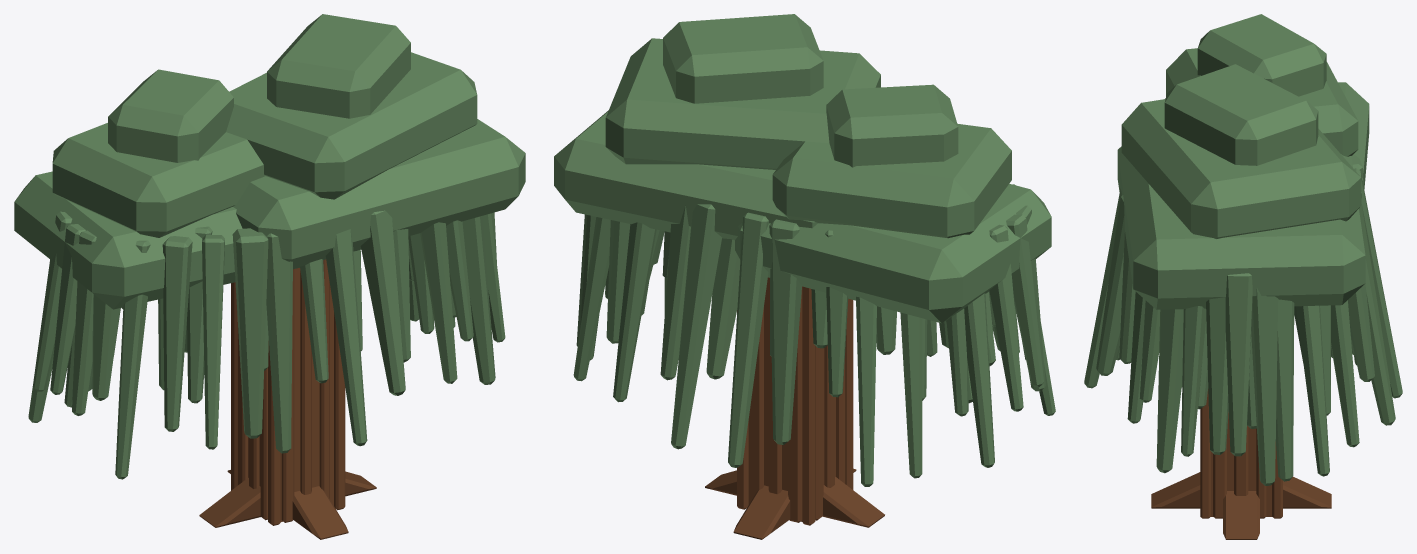
Rendered from Willow2.fbx.
3 views of the same model, side by side, from view 1: azimuth 30°, elevation 25°; view 2: azimuth 150°, elevation 25°; view 3: azimuth 270°, elevation 25° (orthographic). The views are drawn at different scales.
Parts seen in each view (by area): view 1: Leaves, LeafBlock_2, LeafBlock_5, LeafBlock_4, Trunk, LeafBlock_6, LeafBlock_3, Root_3, Root_2; view 2: LeafBlock_2, Leaves, LeafBlock_3, Trunk, LeafBlock_1, LeafBlock_4, Root_1, Root_2; view 3: Leaves, LeafBlock_2, LeafBlock_6, LeafBlock_1, LeafBlock_5, Trunk, Root_4, Root_3, Root_1.
Part boxes in pixels (x1,y1,x2,y2): Leaves: (226, 14, 525, 268); LeafBlock_2: (14, 69, 299, 352); LeafBlock_5: (232, 210, 410, 453); LeafBlock_4: (50, 224, 224, 479); Trunk: (231, 259, 345, 525); LeafBlock_6: (408, 212, 505, 384); LeafBlock_3: (28, 211, 120, 422); Root_3: (292, 486, 348, 539); Root_2: (199, 478, 260, 527); LeafBlock_2: (660, 84, 1051, 467); Leaves: (554, 14, 880, 240); LeafBlock_3: (856, 224, 1023, 486); Trunk: (737, 277, 853, 525); LeafBlock_1: (573, 214, 661, 402); LeafBlock_4: (989, 184, 1055, 415); Root_1: (733, 485, 790, 539); Root_2: (823, 477, 884, 527); Leaves: (1117, 64, 1365, 309); LeafBlock_2: (1165, 14, 1402, 425); LeafBlock_6: (1127, 273, 1252, 473); LeafBlock_1: (1247, 288, 1359, 485); LeafBlock_5: (1084, 188, 1135, 388); Trunk: (1200, 389, 1282, 518); Root_4: (1223, 491, 1259, 539); Root_3: (1151, 472, 1200, 508); Root_1: (1283, 476, 1331, 508).
Bounding box in the file's own units: 19.35 × 18.5 × 12.32.
